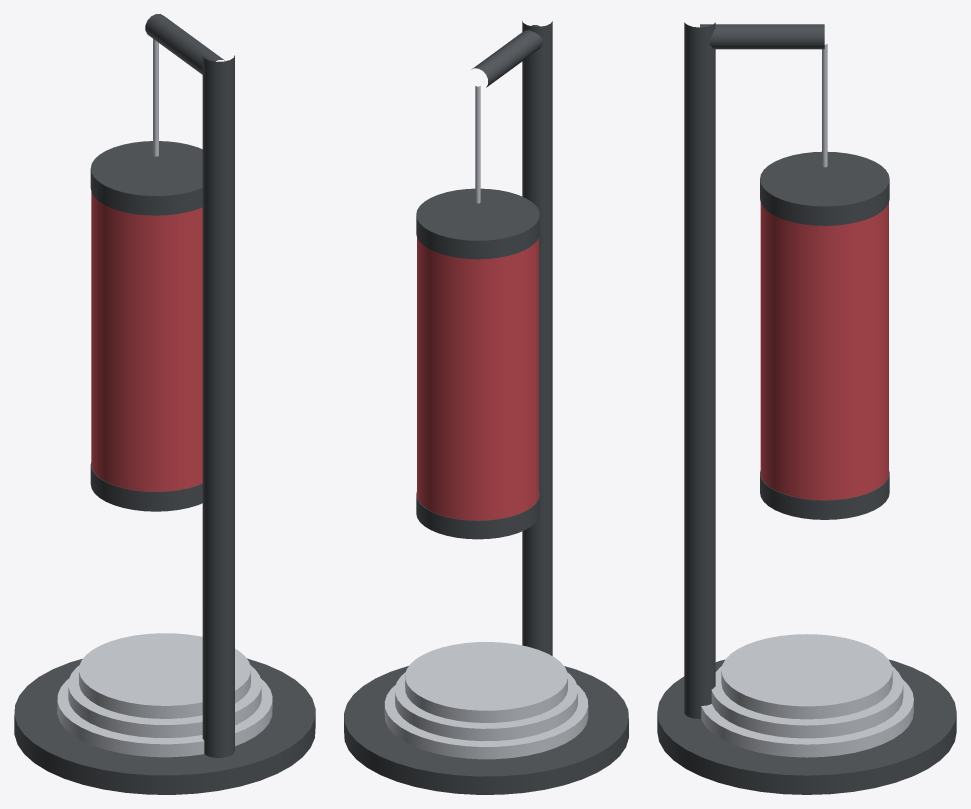
The model's file is boxing-bag.glb.
The picture shows the model from 3 angles, left to right: view 1: azimuth 30°, elevation 25°; view 2: azimuth 150°, elevation 25°; view 3: azimuth 270°, elevation 25°; orthographic projection. The views are drawn at different scales.
Bounding box in the file's own units: 0.84 × 2.2 × 0.84.
